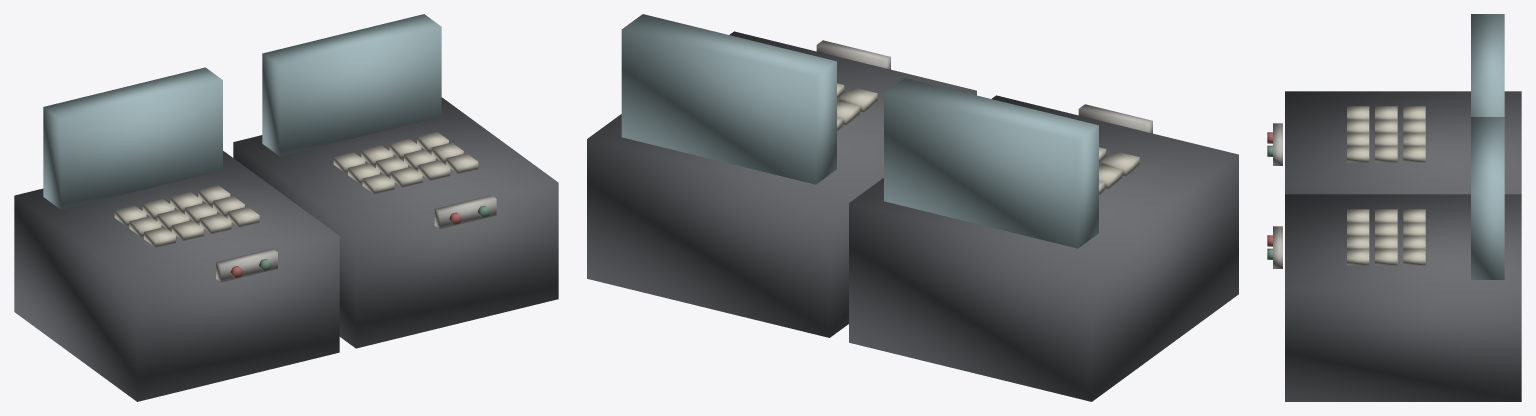
The model's file is cash_register__cluster.glb.
3 renders of one model, left to right at view 1: azimuth 30°, elevation 25°; view 2: azimuth 150°, elevation 25°; view 3: azimuth 270°, elevation 25°, orthographic. The views are drawn at different scales.
Visible parts, largest first — view 1: world; view 2: world; view 3: world.
Boxes of the visible parts, bbox=[...] form: world: bbox=[14, 14, 558, 401]; world: bbox=[587, 14, 1238, 401]; world: bbox=[1267, 14, 1521, 401].
Bounding box in the file's own units: 0.832 × 0.39 × 0.451.
